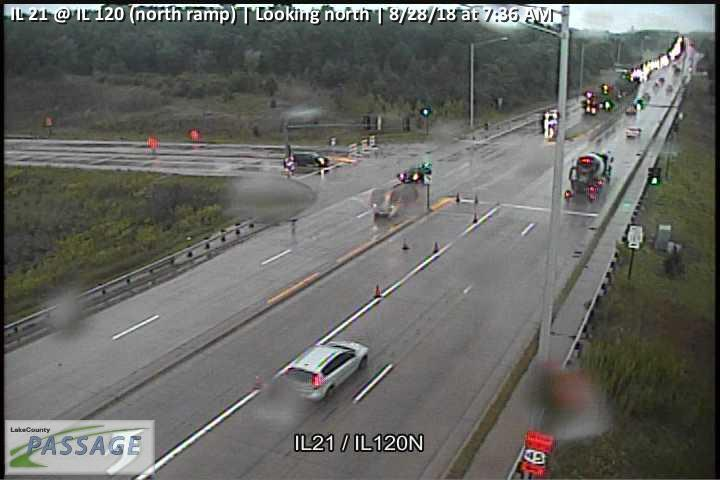SUV: (283, 340, 370, 403), (291, 151, 328, 167)
Truck: (569, 150, 614, 191)
